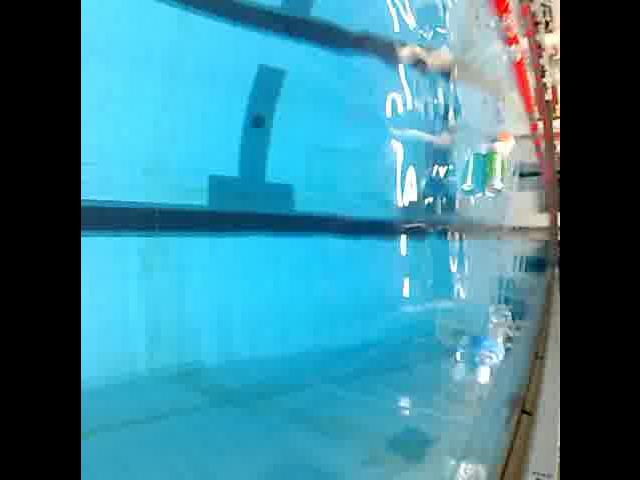Bottle: (466, 298, 516, 390), (443, 451, 491, 480), (488, 127, 518, 163)
Can: (476, 147, 510, 203)
